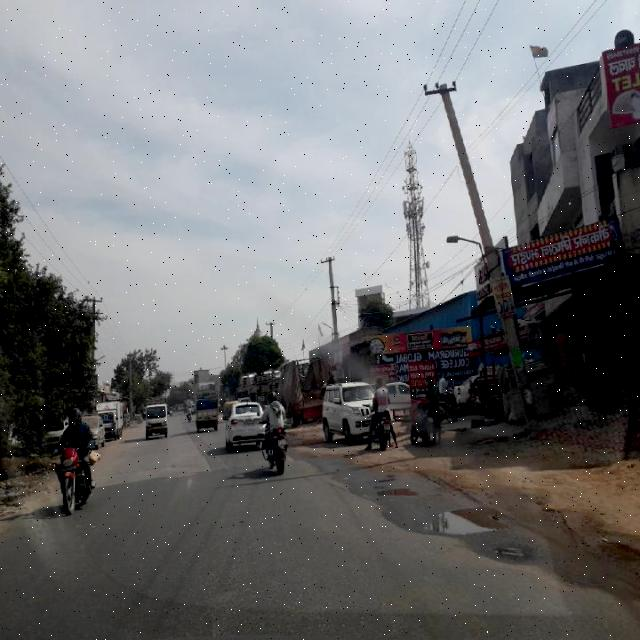D40: (422, 503, 499, 538), (369, 468, 427, 499)
